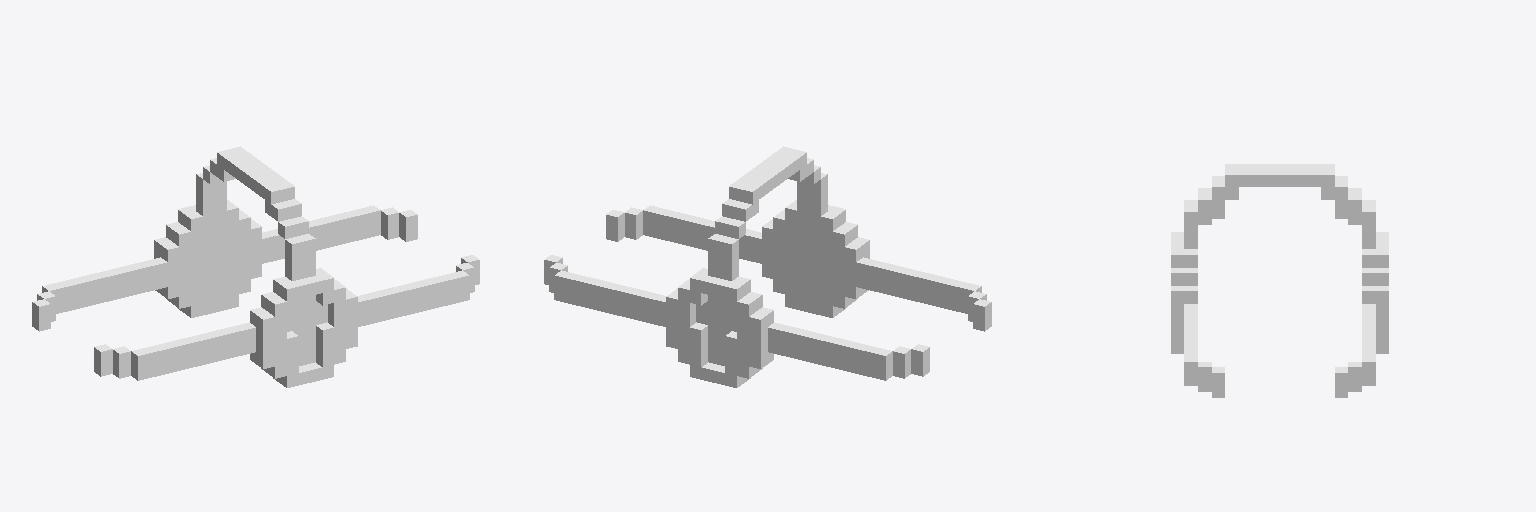
Rendered from door-0-lock.obj.
3 views of the same model, side by side, from view 1: azimuth 30°, elevation 25°; view 2: azimuth 150°, elevation 25°; view 3: azimuth 270°, elevation 25° (orthographic).
Visible parts, largest first — view 1: lock; view 2: lock; view 3: lock.
Part boxes in pixels (bbox=[...]): lock: bbox=[32, 146, 479, 387]; lock: bbox=[544, 146, 991, 387]; lock: bbox=[1171, 164, 1388, 397].
Bounding box in the file's own units: 3.2 × 1.4 × 1.6.